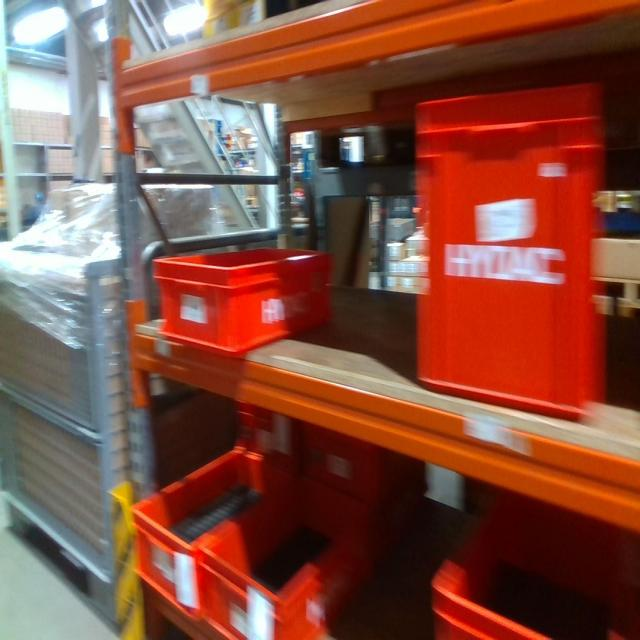small_load_carrier: (416, 93, 612, 422), (428, 477, 635, 633), (203, 469, 379, 640), (132, 446, 293, 617), (149, 246, 332, 353)
stillage: (0, 243, 227, 613)
